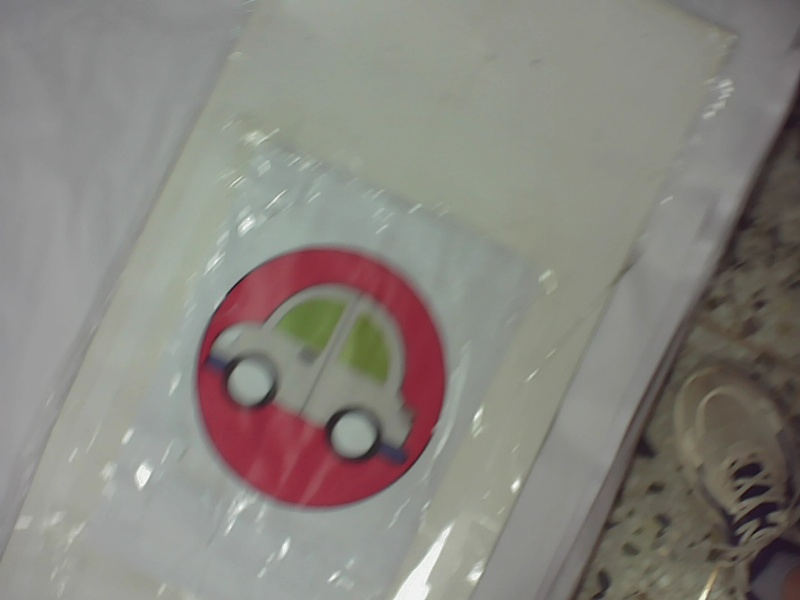areaC: (170, 236, 478, 519)
